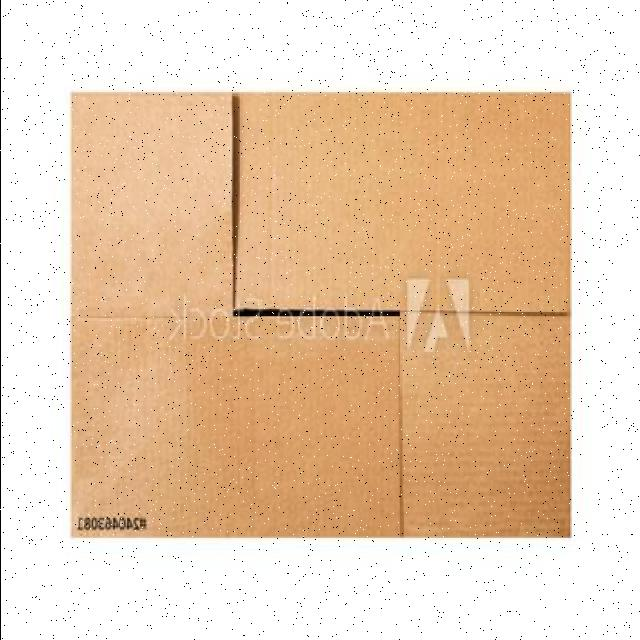normal: (63, 86, 575, 549)
